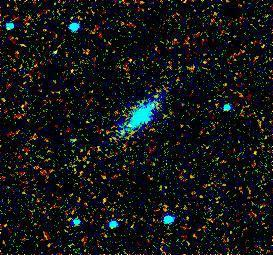star: (141, 81, 171, 111)
